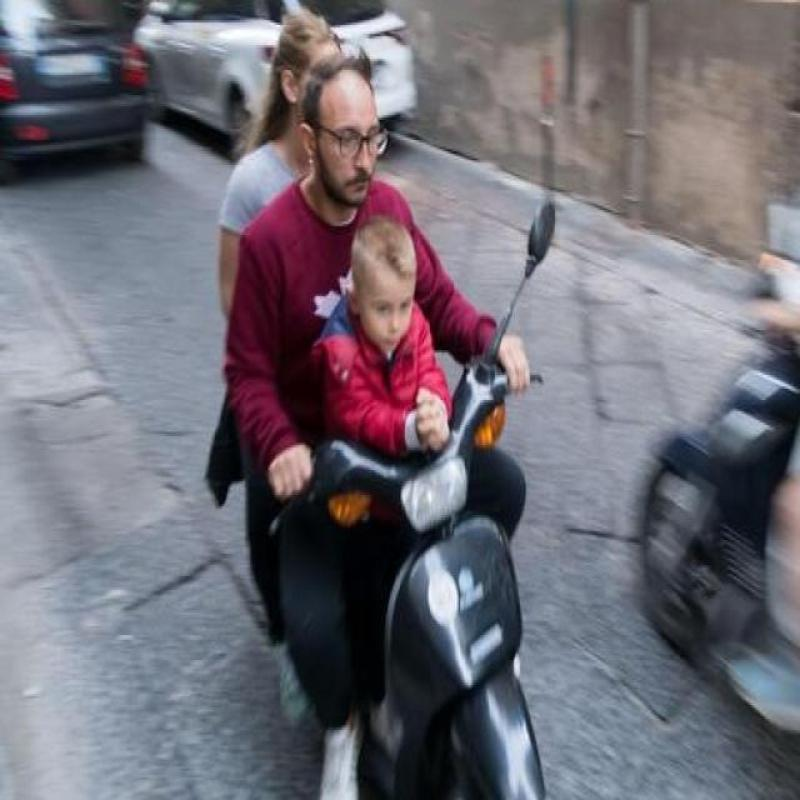nohelmet: (296, 62, 389, 202), (348, 215, 422, 353)
